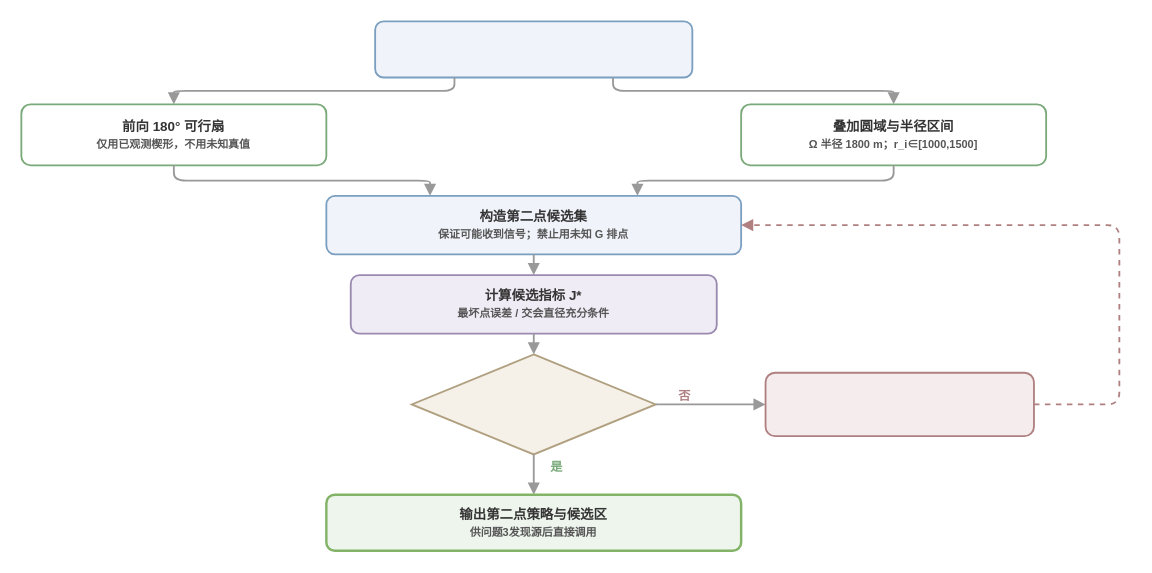
This 1152x573 diagram has some shape labels left out. Each missing label, with the centre of its shape:
"diam(R) 能否进入 可清除尺度?" belongs at [533,404].
"调整第二点几何 拉开基线 / 避开共线" belongs at [899,404].
"输入第一检测点与示向度 单全向源；真位置与 r_i 未知" belongs at [533,49].
